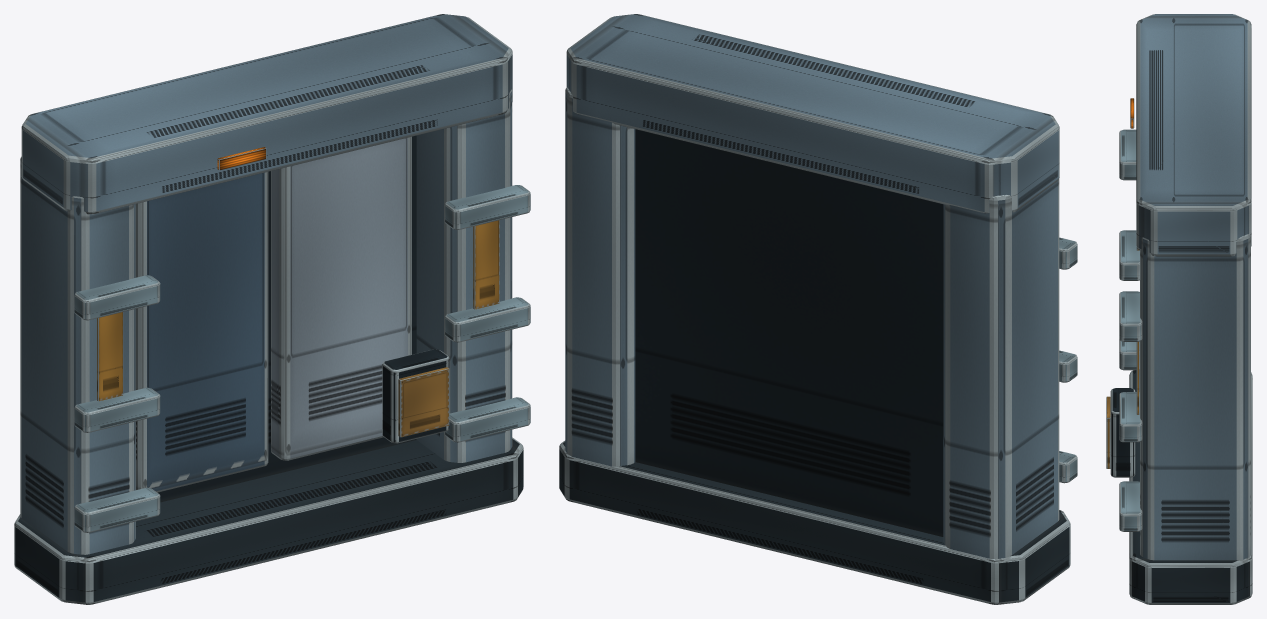
File: V46_GateModule.fbx
3 views of the same model, side by side, from view 1: azimuth 30°, elevation 25°; view 2: azimuth 150°, elevation 25°; view 3: azimuth 270°, elevation 25° (orthographic). The views are drawn at different scales.
Parts seen in each view (by area): view 1: V46_GateModule; view 2: V46_GateModule; view 3: V46_GateModule.
Part boxes in pixels (bbox=[...]): V46_GateModule: bbox=[14, 14, 530, 604]; V46_GateModule: bbox=[559, 14, 1077, 604]; V46_GateModule: bbox=[1106, 14, 1252, 604].
Bounding box in the file's own units: 3.1 × 2.83 × 0.948.
